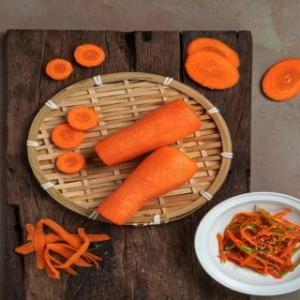carrot: (87, 144, 200, 226), (88, 94, 204, 170)
